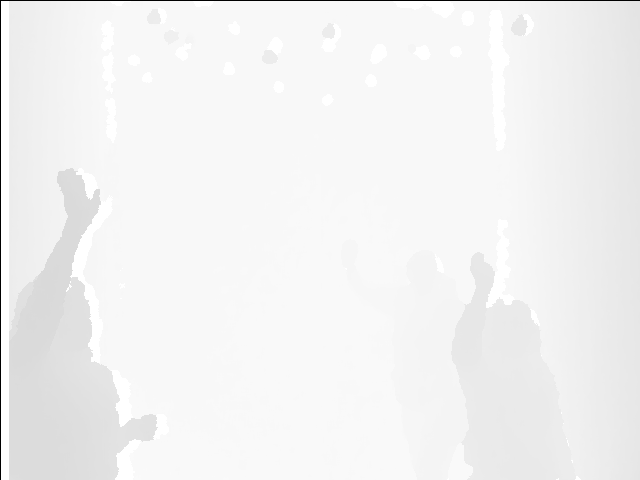hand: (58, 160, 104, 239), (470, 252, 496, 291), (340, 240, 364, 274)
